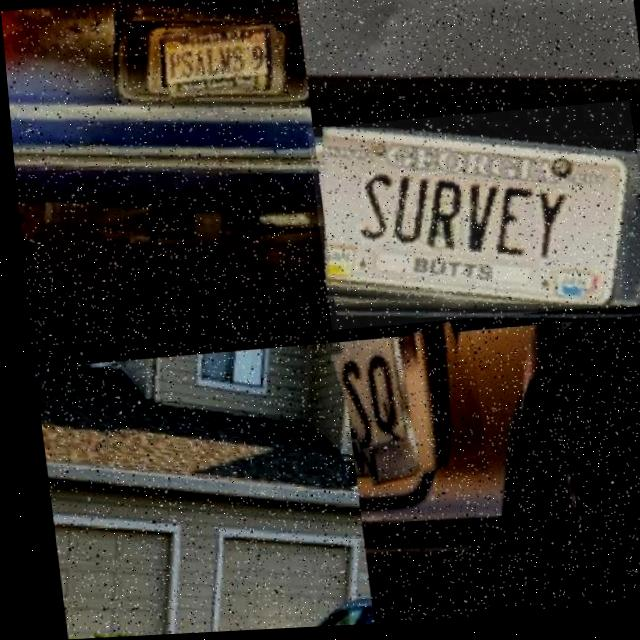LicensePlate: (320, 131, 633, 312), (326, 329, 479, 488), (164, 28, 278, 95)
